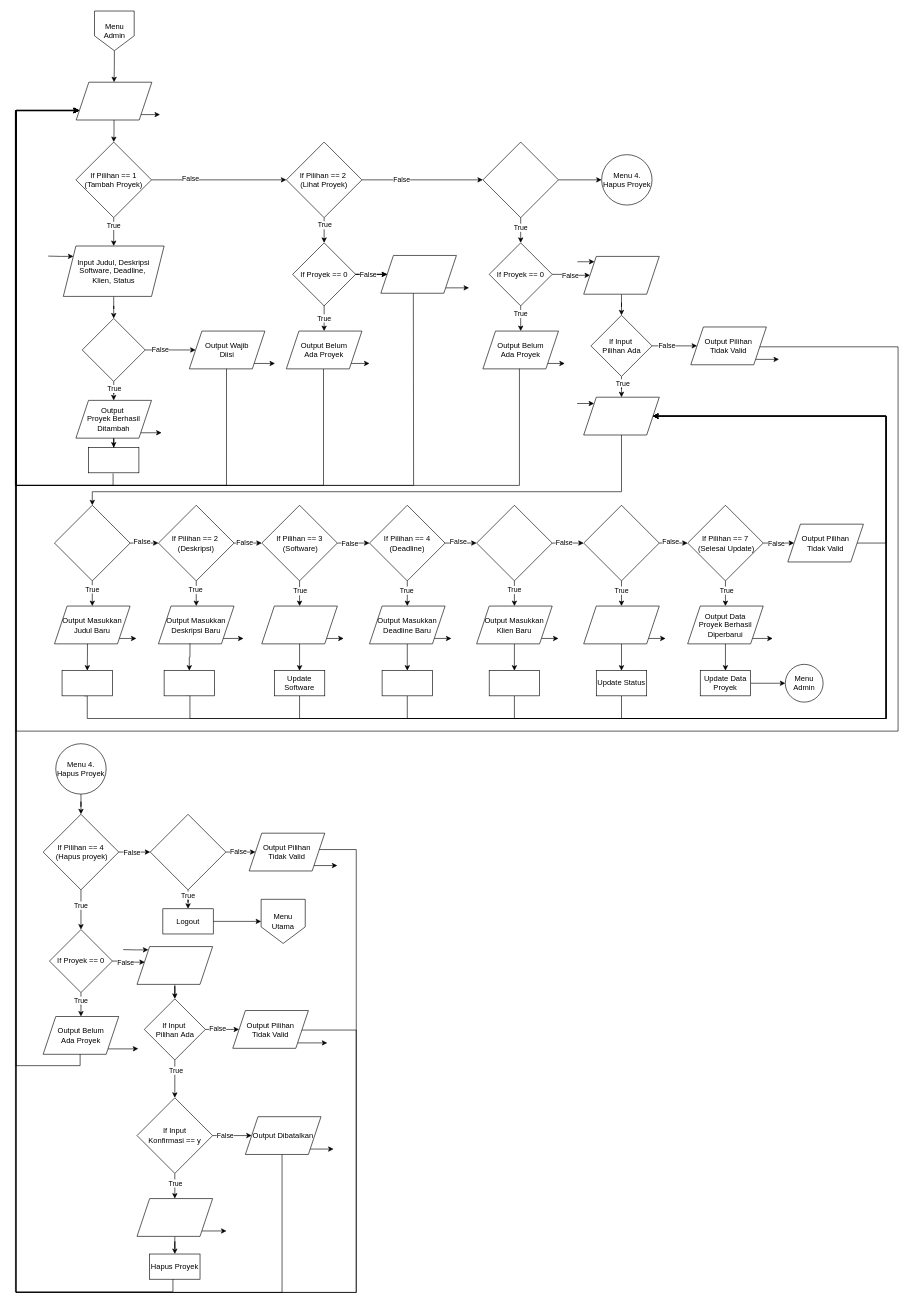
Some shapes in this 914 by 1309 pixel diagram are drawn without their labels. Each missing label, with the box of its shape:
If Judul & Klien Tidak Kosong: (82, 318, 145, 381)
If Pilihan == 1 (Judul): (54, 505, 130, 581)
If Pilihan == 3 (Update Proyek): (482, 141, 558, 218)
If Pilihan == 5 (Klien): (476, 505, 552, 581)
If Pilihan == 5 (Logout): (150, 814, 226, 890)
If Pilihan == 6 (Status): (583, 505, 659, 581)
Input Data Yang Ingin Diubah: (583, 397, 659, 435)
Input Pilih Proyek Yang Ingin Dihapus: (136, 946, 213, 984)
Input Pilih Proyek Yang Ingin Diubah: (583, 256, 659, 294)
Output Masukkan Software Baru: (261, 605, 337, 644)
Output Masukkan Status Baru: (583, 605, 659, 644)
Output Proyek DIhapus: (136, 1198, 213, 1236)
Output Tampilan Daftar Proyek: (380, 255, 456, 293)
Output Tampilan Menu Admin: (76, 82, 152, 120)
Tambah Proyek: (88, 447, 139, 473)
Update Deadline: (381, 670, 432, 696)
Update Deskripsi: (163, 670, 215, 696)
Update Judul: (61, 670, 112, 696)
Update Klien: (489, 670, 540, 696)
